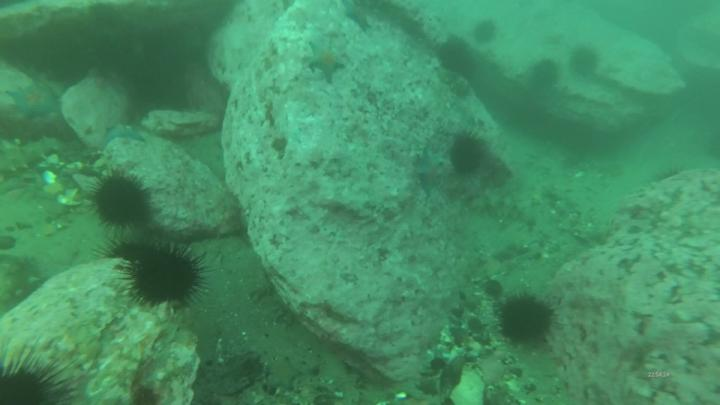echinus: (135, 247, 202, 306), (97, 178, 151, 224), (502, 297, 553, 343), (3, 364, 56, 405), (438, 40, 475, 77), (454, 135, 483, 173), (532, 58, 558, 90), (573, 47, 595, 76), (476, 23, 497, 41)
scallop: (449, 362, 487, 405)
starfish: (9, 87, 62, 117), (305, 43, 347, 77), (419, 158, 446, 195), (269, 358, 296, 392), (343, 1, 371, 31), (108, 121, 144, 143)
